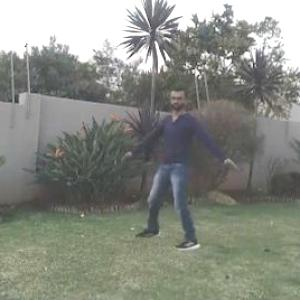land: (118, 60, 250, 276)
